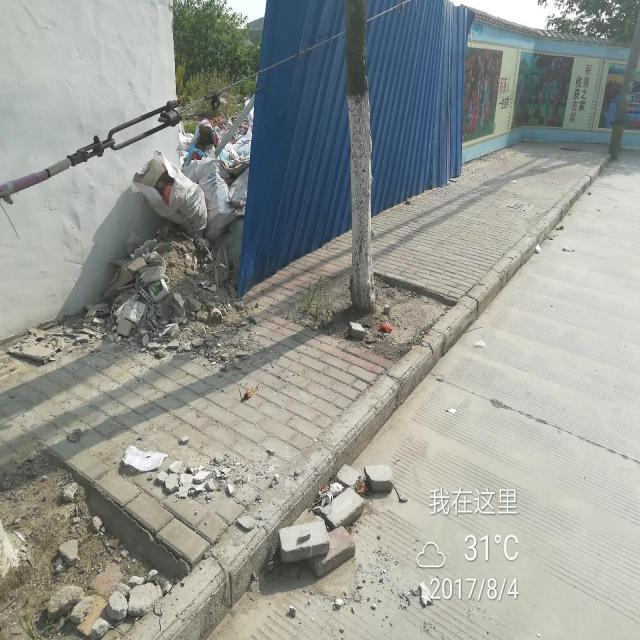garbage: (130, 104, 258, 231)
